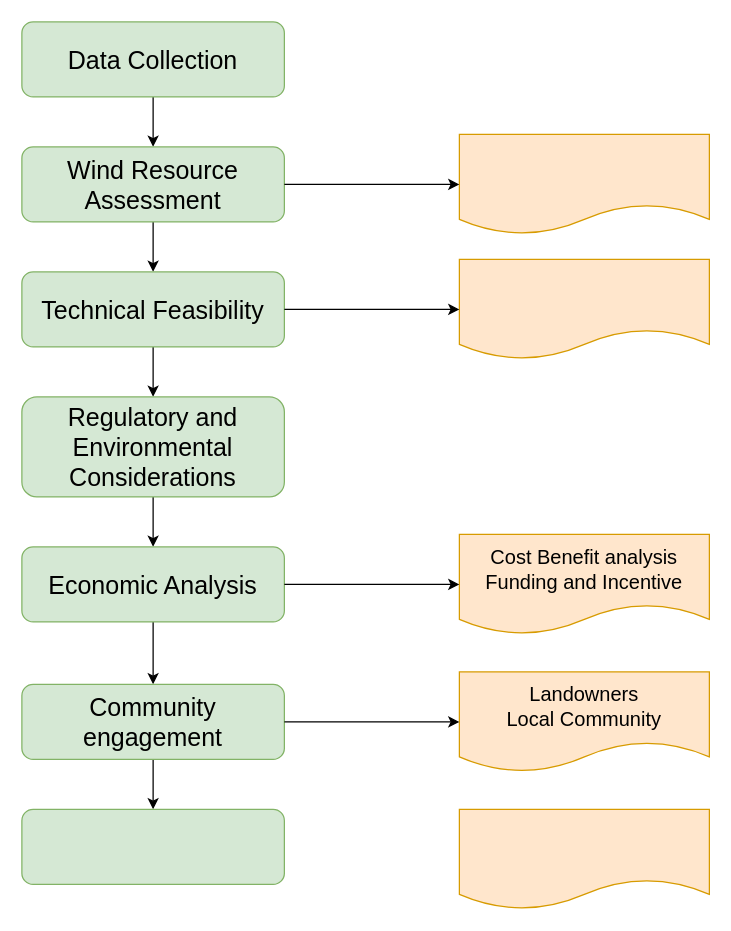
The diagram is 731 pixels wide and 931 high, and some of its shapes have lost their labels. The shapes that lost their labels are listed below. From the top down, each one's box as (x1, y1, x2, y2) in pixels, then its label:
(458, 133, 709, 234): Site selection and analysis
(458, 258, 709, 359): Turbine Selection Infrastructure selection
(21, 808, 284, 884): Project Implementation
(458, 808, 709, 909): Planning and Site preparation of contruction
